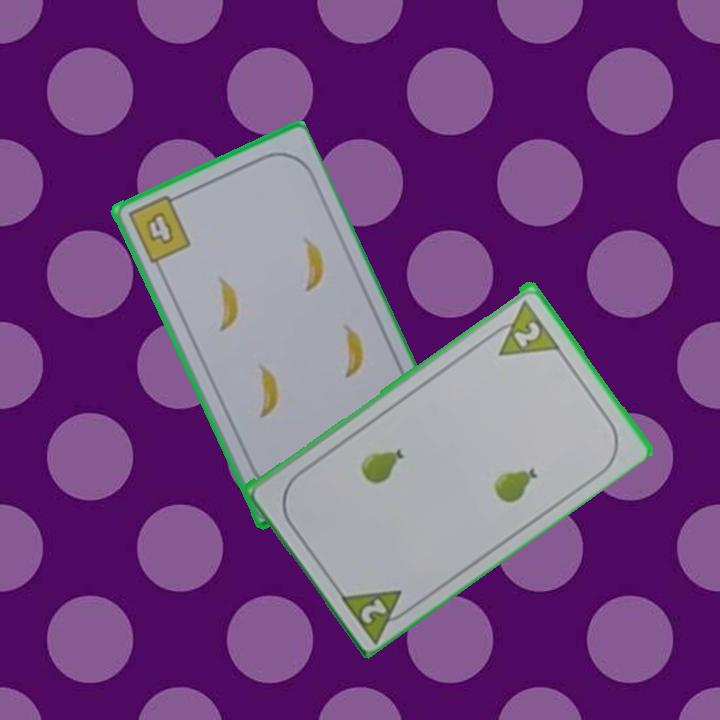2p: (483, 294, 562, 359), (335, 585, 417, 644)
4b: (124, 190, 194, 267)
